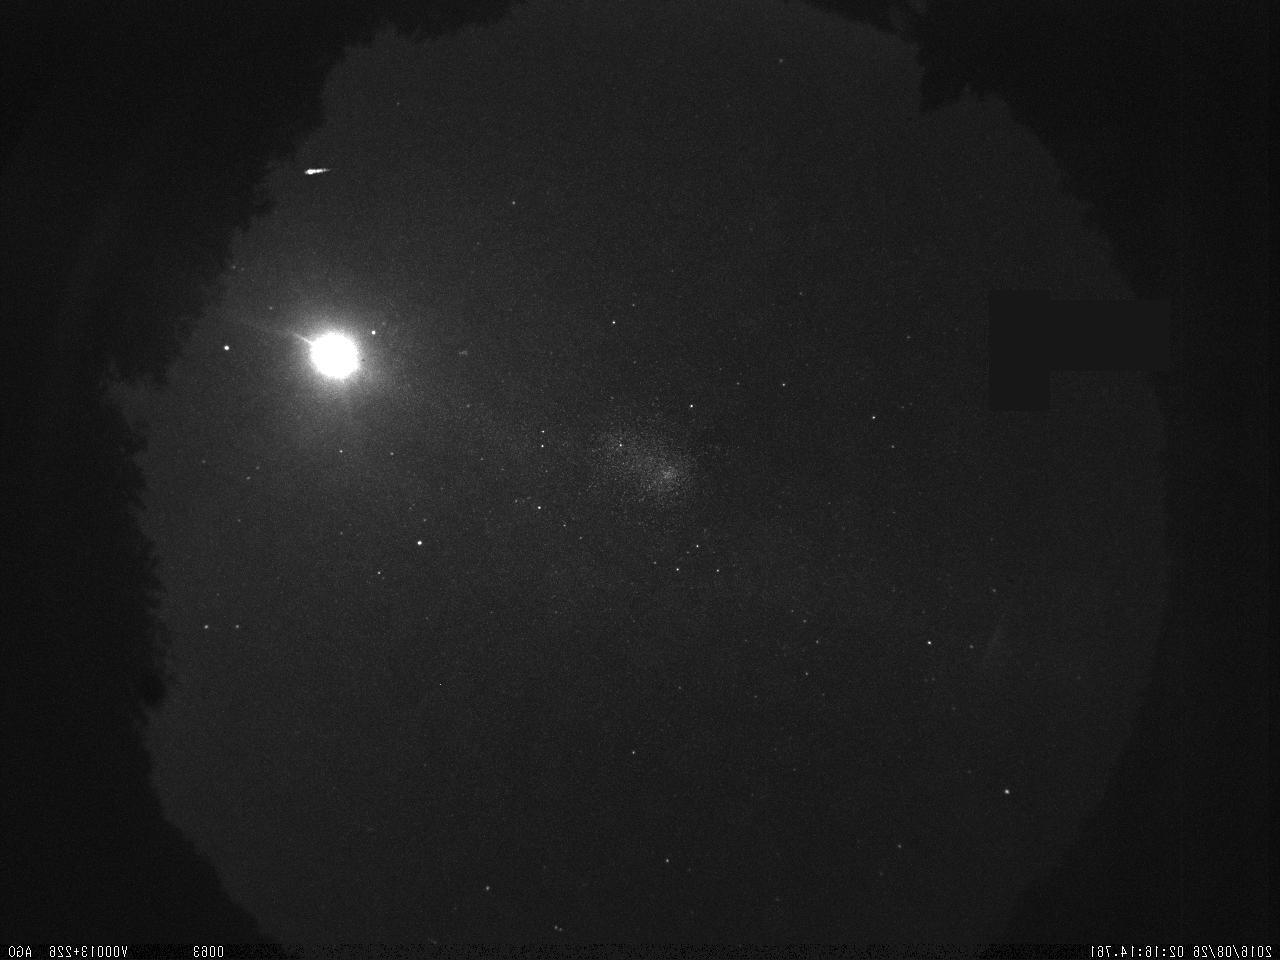meteor: (296, 156, 341, 187)
